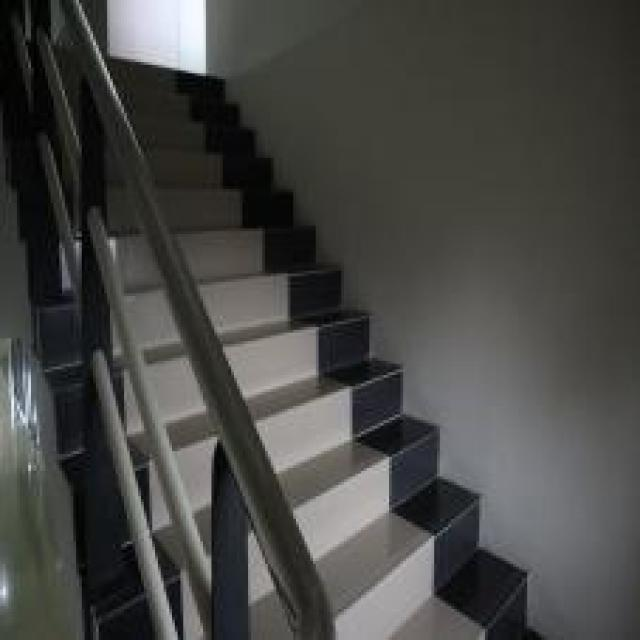upstair: (291, 207, 489, 638)
